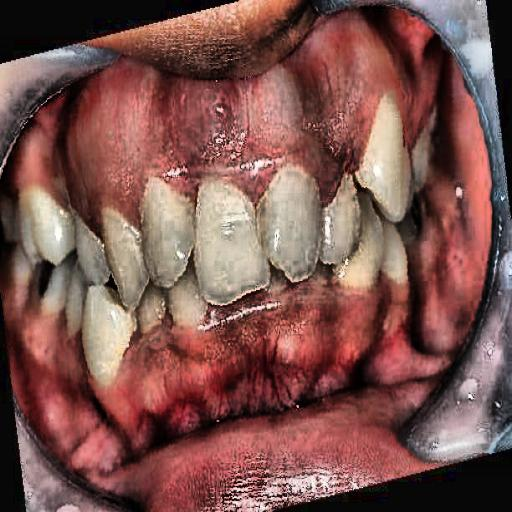Gingivitis: (33, 297, 404, 444), (28, 54, 254, 221), (262, 15, 474, 192)
